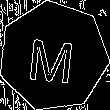M_N: (28, 29, 79, 84)
